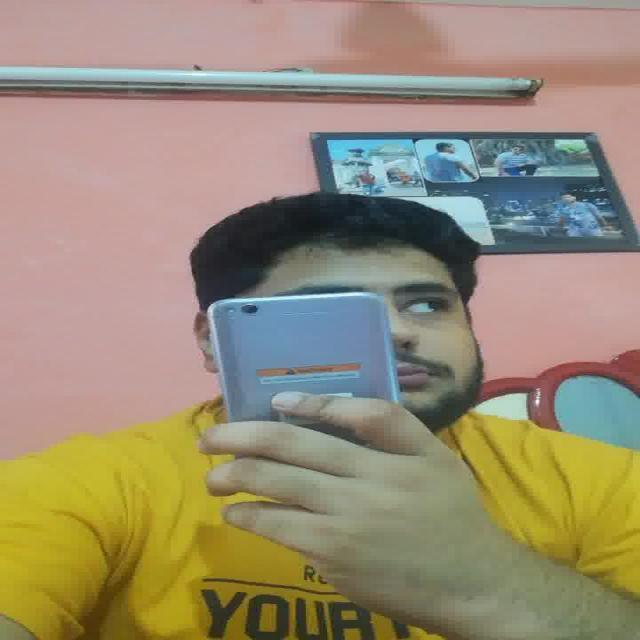Phone: (206, 295, 398, 422)
